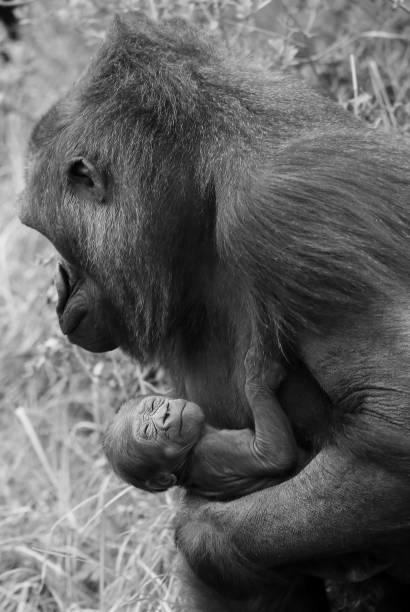gorille_Autres: (7, 15, 410, 612)
